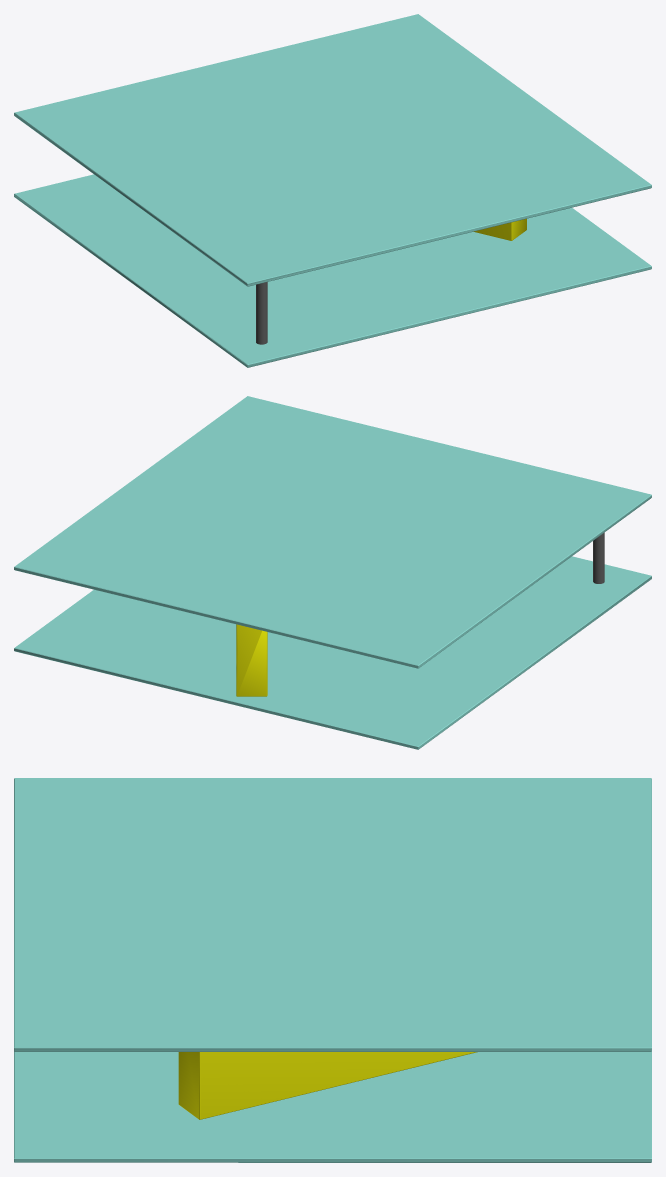
Rendered from designconnected-plane-coffee-table-8347.optimized.glb.
3 renders of one model, top to bottom at view 1: azimuth 30°, elevation 25°; view 2: azimuth 150°, elevation 25°; view 3: azimuth 270°, elevation 25°, orthographic. The views are drawn at different scales.
Parts seen in each view (by area): view 1: Living_Divani_Plane_mat1; view 2: Living_Divani_Plane_mat1; view 3: Living_Divani_Plane_mat1.
Boxes of the visible parts, x1=… form: Living_Divani_Plane_mat1: x1=14, y1=14, x2=651, y2=367; Living_Divani_Plane_mat1: x1=14, y1=396, x2=651, y2=749; Living_Divani_Plane_mat1: x1=14, y1=778, x2=651, y2=1162.
Size of the model in its own units: 1.2 by 0.2499 by 1.2.
